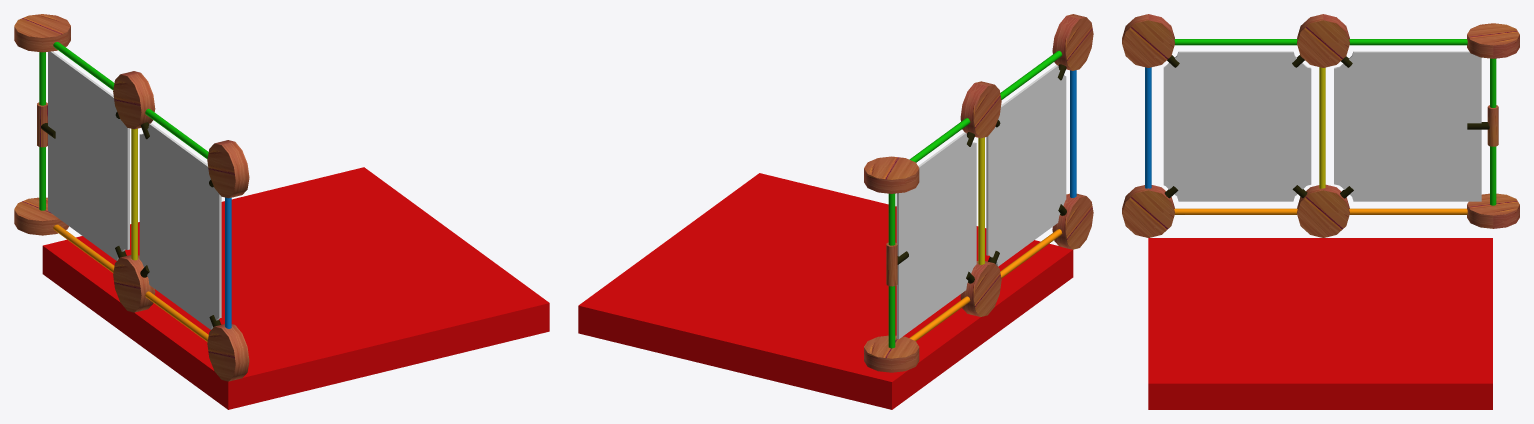
File: etageTile.fbx
3 views of the same model, side by side, from view 1: azimuth 30°, elevation 25°; view 2: azimuth 150°, elevation 25°; view 3: azimuth 270°, elevation 25° (orthographic). The views are drawn at different scales.
Parts seen in each view (by area): view 1: Sol, Vitre, Vitre.001, CercleBois, Jointure.003, Jointure.004, Jointure.001, Jointure.005, Jointure.006, Supports.061, Supports.060, Supports.062 (+4 smaller); view 2: Sol, Vitre.001, Vitre, Jointure.001, Jointure.004, CercleBois, Jointure.006, Jointure.003, Jointure.005, Supports.062, Supports.060, Supports.061 (+5 smaller); view 3: Sol, Vitre, Vitre.001, CercleBois, Jointure.004, Jointure.003, Jointure.005, Jointure.001, Jointure.006, Supports.064, Supports.066, Supports.060 (+5 smaller).
Part boxes in pixels (x1,y1,x2,y2): Sol: (42, 167, 549, 409); Vitre: (48, 51, 129, 260); Vitre.001: (139, 123, 221, 329); CercleBois: (207, 140, 249, 198); Jointure.003: (207, 324, 249, 381); Jointure.004: (113, 71, 155, 129); Jointure.001: (14, 14, 70, 52); Jointure.005: (113, 255, 155, 312); Jointure.006: (14, 197, 68, 235); Supports.061: (131, 128, 137, 260); Supports.060: (225, 197, 231, 328); Supports.062: (39, 52, 45, 210); Sol: (578, 173, 1073, 409); Vitre.001: (986, 65, 1066, 266); Vitre: (896, 132, 976, 339); Jointure.001: (864, 156, 919, 193); Jointure.004: (960, 81, 1001, 138); CercleBois: (1052, 14, 1093, 70); Jointure.006: (864, 335, 919, 372); Jointure.003: (1052, 193, 1093, 249); Jointure.005: (960, 261, 1001, 316); Supports.062: (888, 193, 895, 348); Supports.060: (1070, 70, 1076, 197); Supports.061: (978, 137, 984, 264); Sol: (1148, 238, 1492, 409); Vitre: (1334, 51, 1481, 201); Vitre.001: (1163, 51, 1311, 201); CercleBois: (1122, 14, 1174, 67); Jointure.004: (1297, 14, 1349, 67); Jointure.003: (1122, 185, 1174, 237); Jointure.005: (1297, 184, 1349, 237); Jointure.001: (1467, 23, 1519, 58); Jointure.006: (1467, 193, 1519, 228); Supports.064: (1174, 208, 1297, 214); Supports.066: (1174, 39, 1297, 45); Supports.060: (1145, 67, 1151, 188).
Size of the model in its own units: 684 by 734 by 503.
7 materials, 1 textured.
